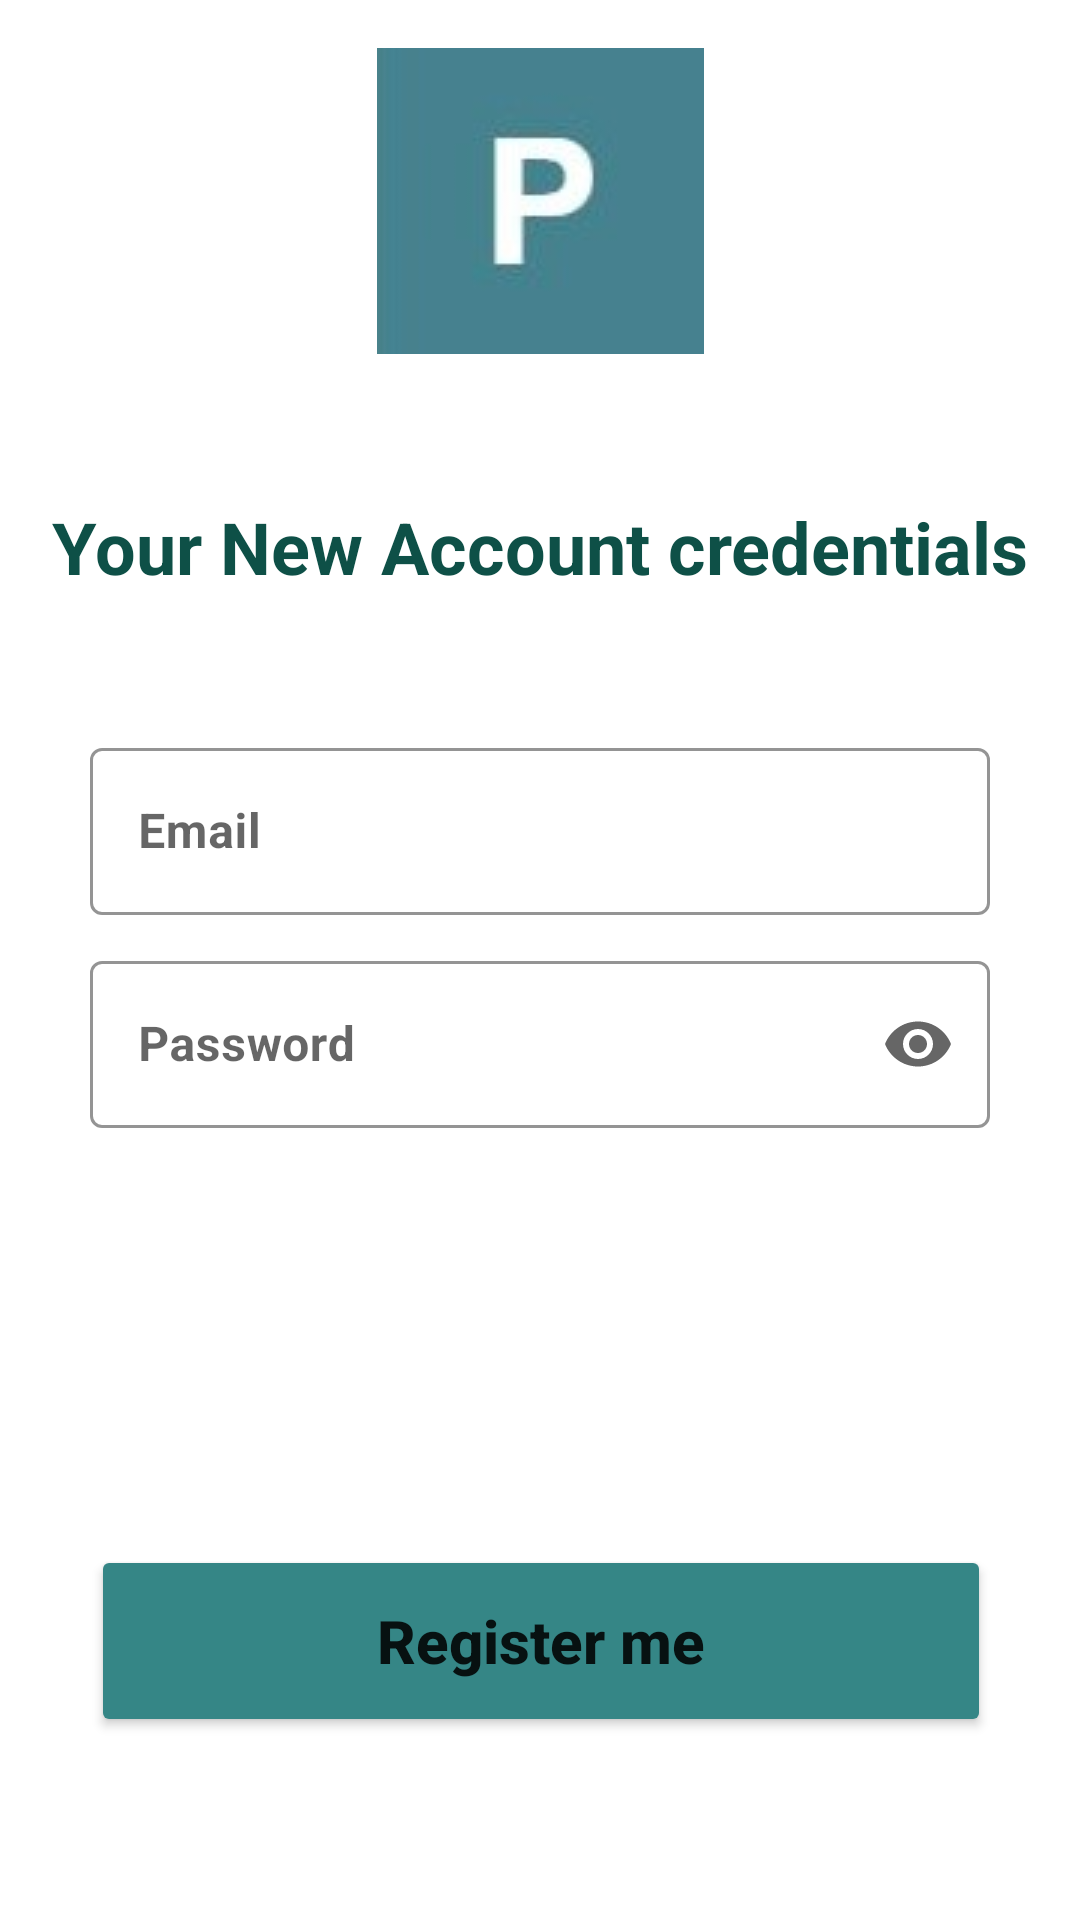

Icon click points for this 1080*1920 phone screenshot, format (x,y):
appicon: (540,201)
